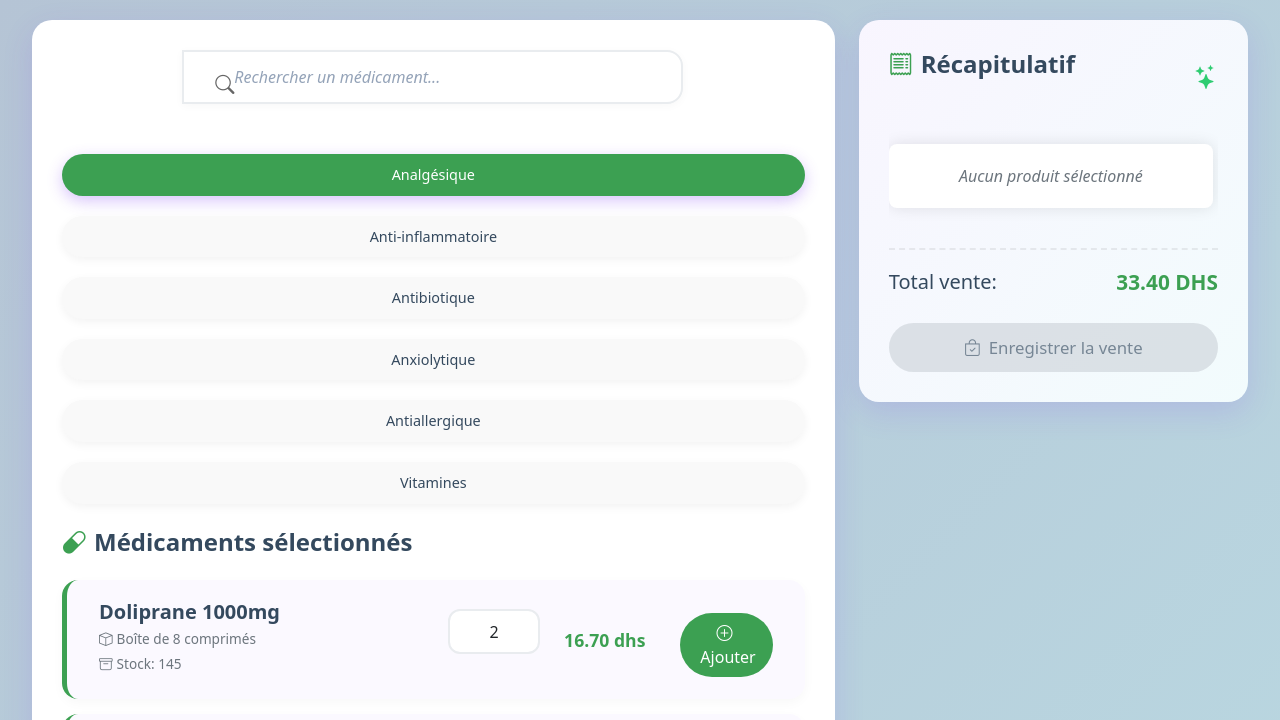
Test: VentePharmacien Component › renders the sales interface correctly
The width and height of the screenshot is (1280, 720).
Check: the field with placeholder "Rechercher un médicament..." is shown, box left=182, top=50, right=683, bottom=104
Check: the button "Analgésique" is shown, box left=62, top=154, right=805, bottom=196
Note: Switch to Anti-inflammatoire category to see Aspirine
Click the button "Anti-inflammatoire". click: (433, 236)
box: left=62, top=216, right=805, bottom=257
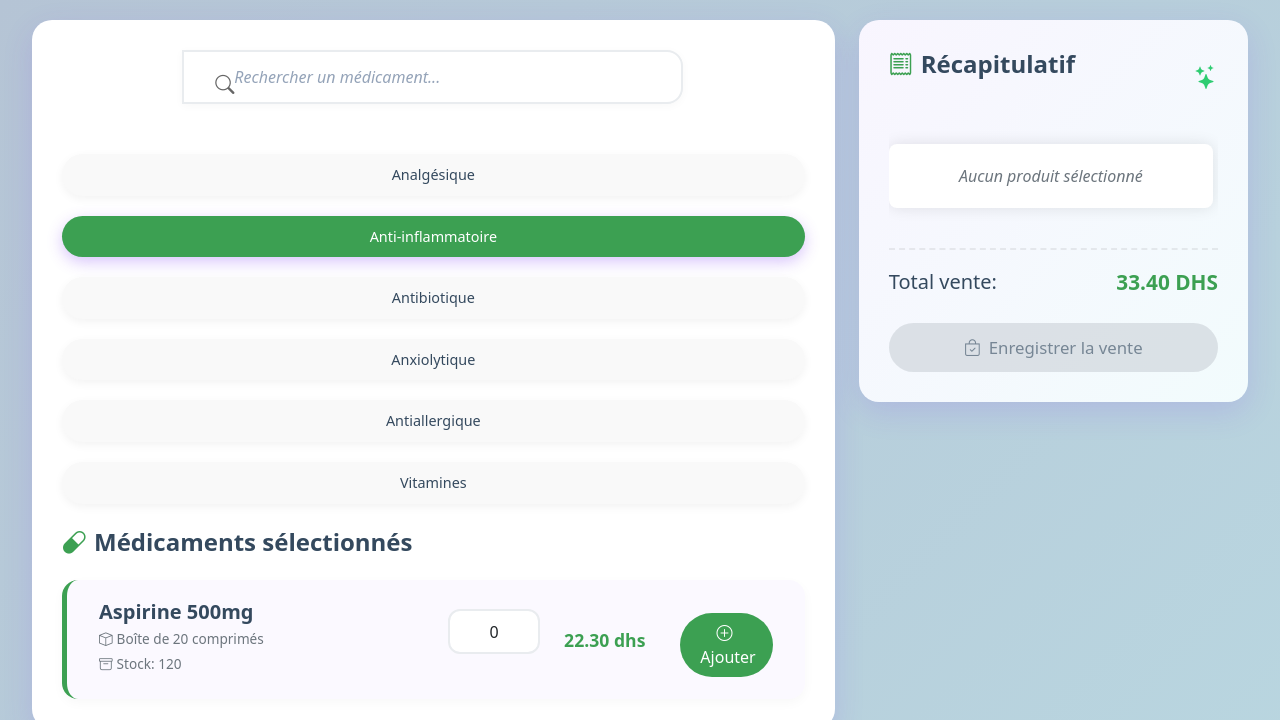
Check: the heading "Récapitulatif" is shown, box left=889, top=50, right=1075, bottom=79
Check: the heading "Aspirine 500mg" is shown, box left=99, top=598, right=254, bottom=626
